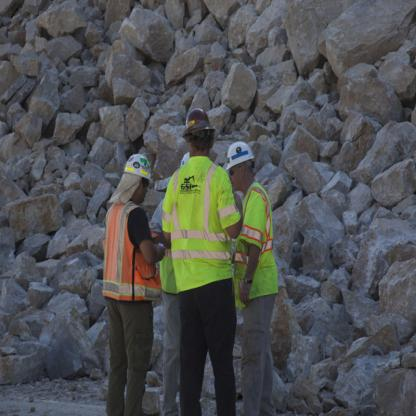person: (161, 92, 234, 409), (223, 120, 286, 412), (98, 146, 160, 413)
